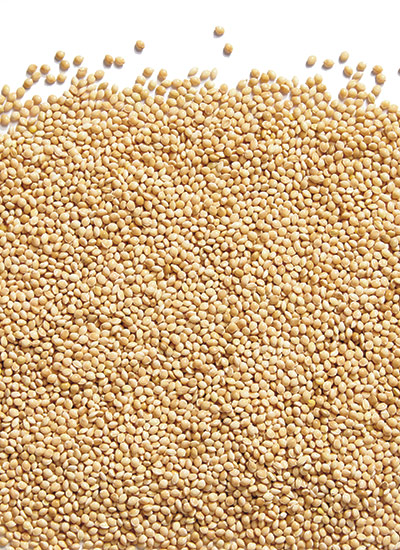seed: (1, 45, 400, 550)
